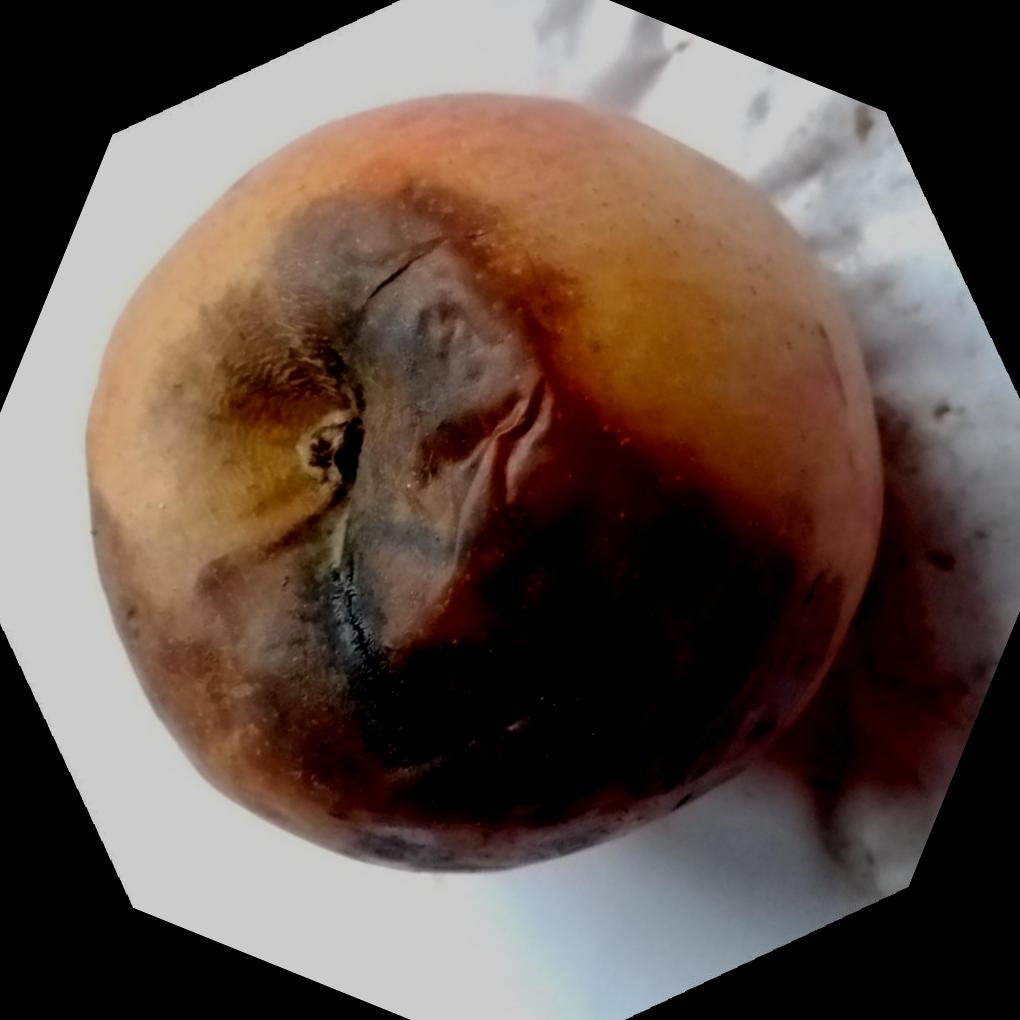FreshOrange: (81, 91, 889, 878)
